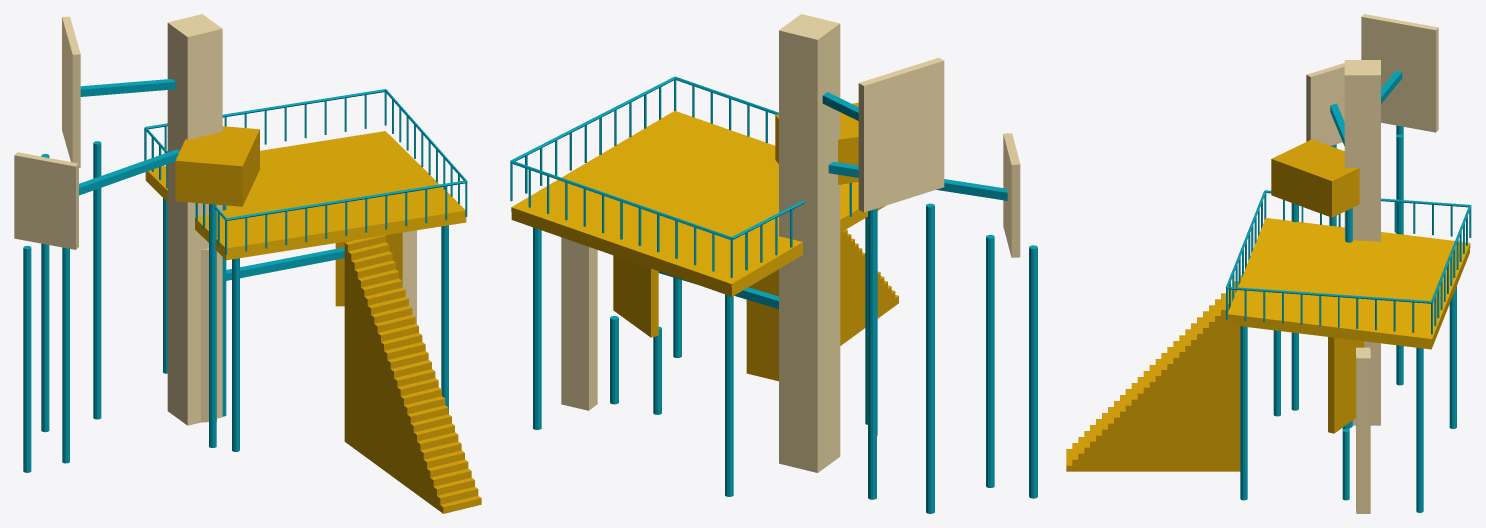
The model's file is folie_tag_022.glb.
3 renders of one model, left to right at view 1: azimuth 30°, elevation 25°; view 2: azimuth 150°, elevation 25°; view 3: azimuth 270°, elevation 25°, orthographic. The views are drawn at different scales.
Parts seen in each view (by area): view 1: folie_tag_022_line, folie_tag_022_stairs, folie_tag_022_00_plate, folie_tag_022_core, folie_tag_022_03_block, folie_tag_022_06_panel, folie_tag_022_01_panel, folie_tag_022_02_fin, folie_tag_022_04_fin, folie_tag_022_05_panel; view 2: folie_tag_022_00_plate, folie_tag_022_core, folie_tag_022_line, folie_tag_022_01_panel, folie_tag_022_04_fin, folie_tag_022_stairs, folie_tag_022_05_panel, folie_tag_022_06_panel, folie_tag_022_03_block; view 3: folie_tag_022_00_plate, folie_tag_022_stairs, folie_tag_022_line, folie_tag_022_core, folie_tag_022_01_panel, folie_tag_022_03_block, folie_tag_022_06_panel, folie_tag_022_05_panel, folie_tag_022_04_fin.
Part boxes in pixels (x1,y1,x2,y2): folie_tag_022_line: (23,79,467,472); folie_tag_022_stairs: (344,235,481,513); folie_tag_022_00_plate: (145,131,466,260); folie_tag_022_core: (167,14,222,425); folie_tag_022_03_block: (175,126,259,206); folie_tag_022_06_panel: (14,152,78,249); folie_tag_022_01_panel: (62,16,80,167); folie_tag_022_02_fin: (201,248,216,422); folie_tag_022_04_fin: (402,230,416,324); folie_tag_022_05_panel: (335,232,402,306); folie_tag_022_00_plate: (511,111,885,296); folie_tag_022_core: (779,14,840,472); folie_tag_022_line: (510,76,1037,513); folie_tag_022_01_panel: (858,57,944,212); folie_tag_022_04_fin: (561,237,597,410); folie_tag_022_stairs: (746,229,898,381); folie_tag_022_05_panel: (613,255,658,337); folie_tag_022_06_panel: (1003,133,1020,257); folie_tag_022_03_block: (775,102,858,184); folie_tag_022_00_plate: (1226,218,1470,349); folie_tag_022_stairs: (1066,275,1241,471); folie_tag_022_line: (1225,71,1471,512); folie_tag_022_core: (1344,60,1380,425); folie_tag_022_01_panel: (1361,14,1438,132); folie_tag_022_03_block: (1271,139,1359,217); folie_tag_022_06_panel: (1306,59,1354,145); folie_tag_022_05_panel: (1328,337,1364,433); folie_tag_022_04_fin: (1356,347,1370,513).
Size of the model in its own units: 13.18 by 11.71 by 12.28.
